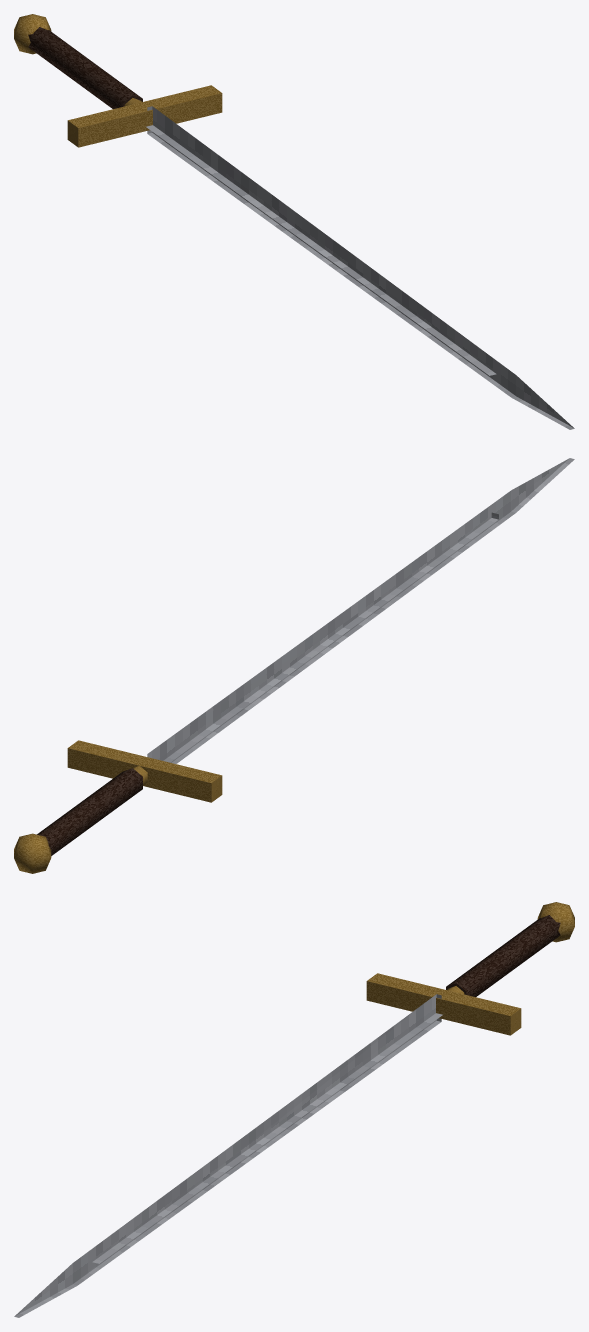
File: espada.glb
3 renders of one model, top to bottom at view 1: azimuth 30°, elevation 25°; view 2: azimuth 150°, elevation 25°; view 3: azimuth 330°, elevation 25°, orthographic.
Parts seen in each view (by area): view 1: espada; view 2: espada; view 3: espada.
Boxes of the visible parts, box(x1,y1,x2,y2) form: espada: box(14, 14, 574, 429); espada: box(14, 458, 574, 873); espada: box(14, 902, 574, 1317).
Bounding box in the file's own units: 0.17 × 0.044 × 1.12.
6 materials, 6 textured.
